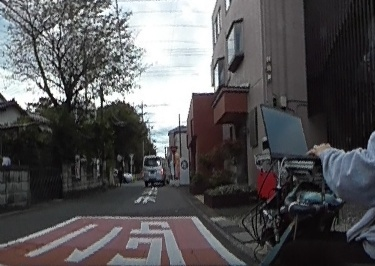person: (296, 34, 375, 266)
